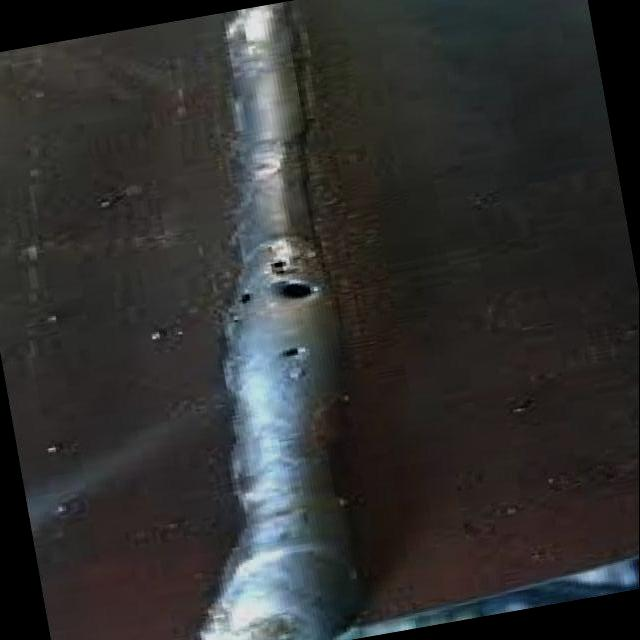defect: (269, 257, 321, 304), (225, 286, 262, 310), (277, 340, 310, 360)
